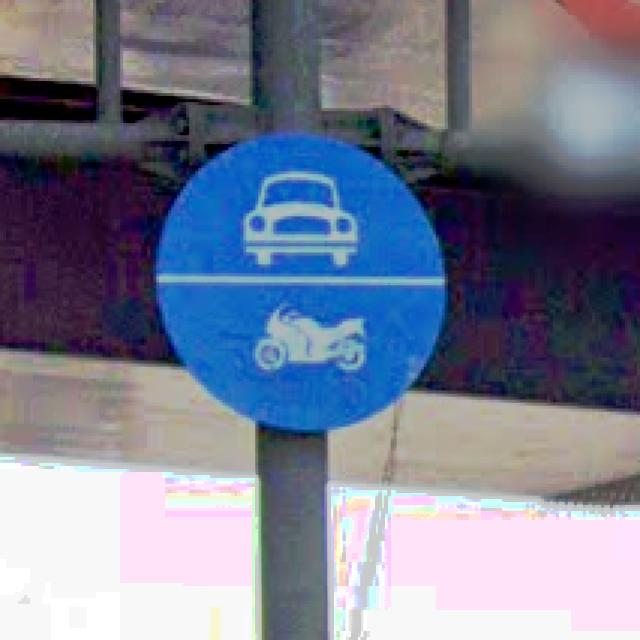carmotorcycle: (159, 135, 444, 431)
